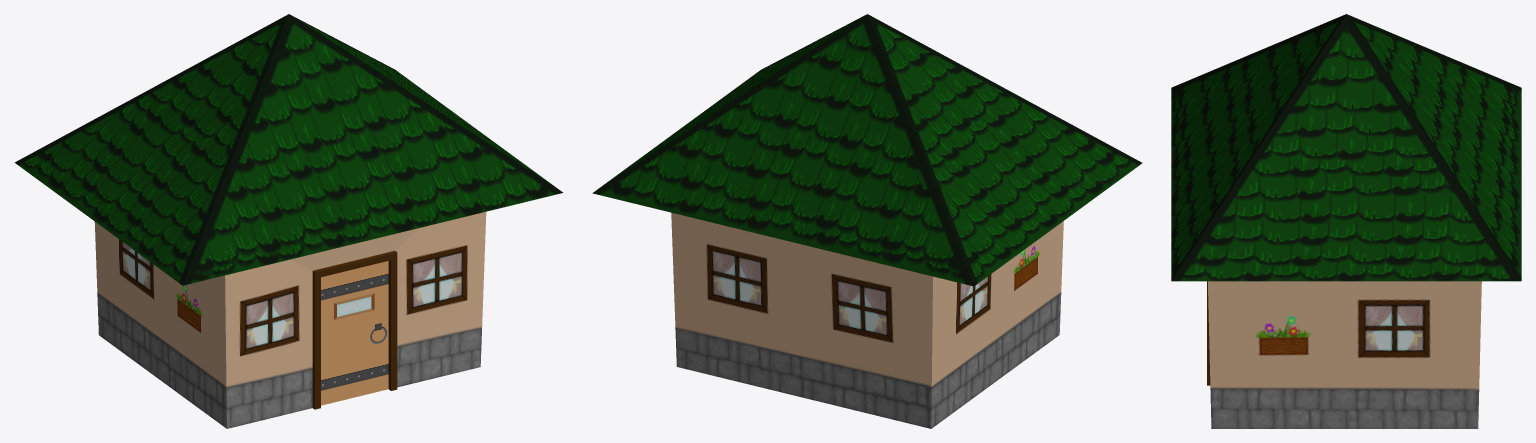
File: smlHouse3.FBX
3 views of the same model, side by side, from view 1: azimuth 30°, elevation 25°; view 2: azimuth 150°, elevation 25°; view 3: azimuth 270°, elevation 25° (orthographic). The views are drawn at different scales.
Visible parts, largest first — view 1: HousseRoof, houseBase; view 2: HousseRoof, houseBase; view 3: HousseRoof, houseBase.
Boxes of the visible parts, <box> form: HousseRoof: <box>14,14,563,285</box>; houseBase: <box>94,212,486,428</box>; HousseRoof: <box>592,14,1142,286</box>; houseBase: <box>671,212,1063,428</box>; HousseRoof: <box>1171,14,1521,281</box>; houseBase: <box>1207,281,1481,428</box>.
Size of the model in its own units: 244 by 187 by 206.
2 materials, 2 textured.
